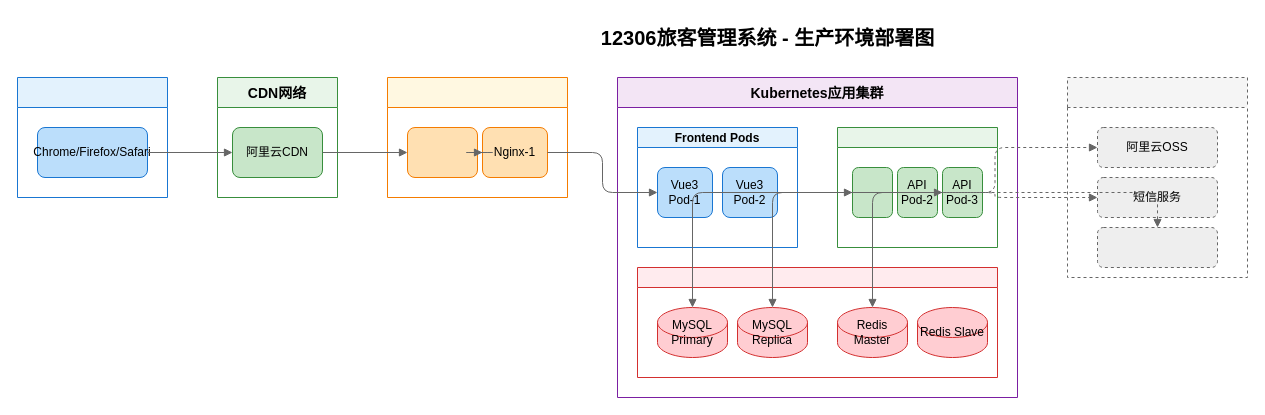
Image size: 1265x415. Some labels were removed from this diagram. Here are the shapes that lost their labels. From the top down, the box of each, then its label:
(16, 76, 168, 198): 用户终端
(406, 126, 478, 178): SLB负载均衡
(386, 76, 568, 198): 负载均衡集群
(852, 166, 892, 218): API Pod-1
(836, 126, 998, 248): Backend Pods
(1066, 76, 1248, 278): 外部服务
(1096, 226, 1218, 268): 支付网关
(636, 266, 998, 378): Data Pods
